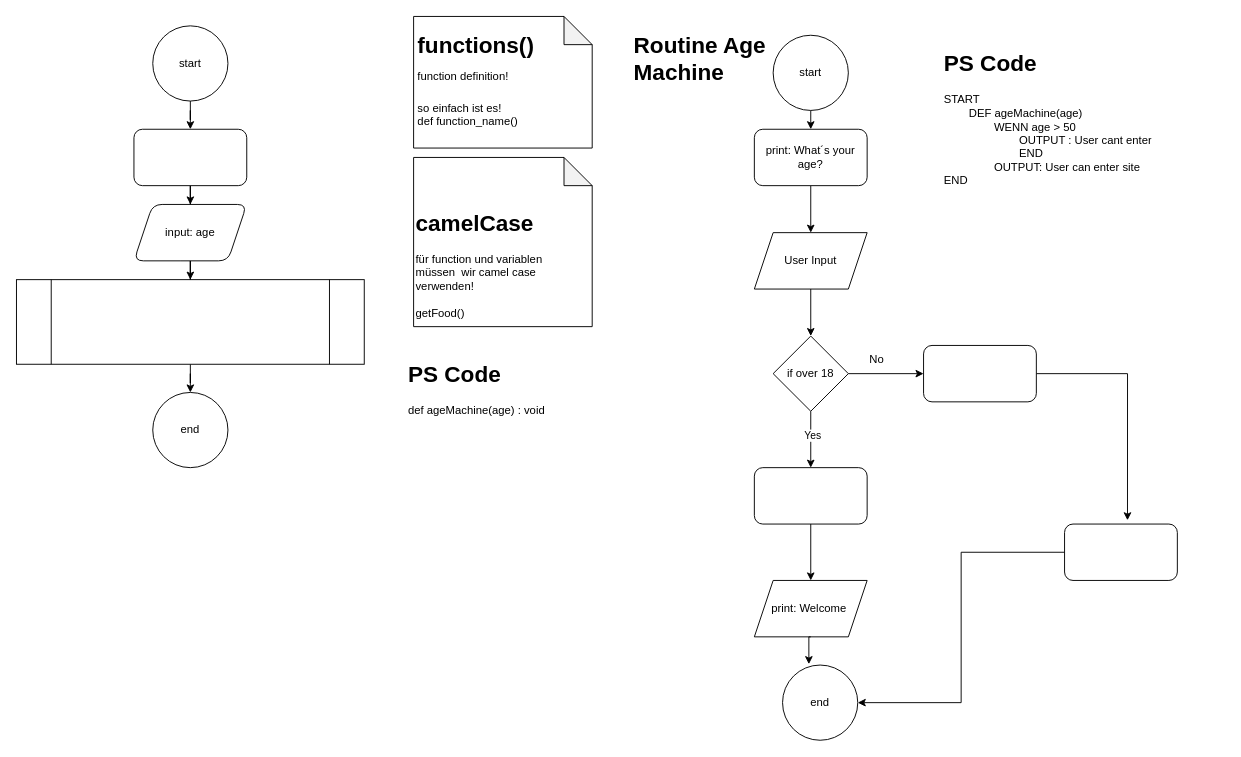
This 1241x757 diagram has some shape labels left out. Here are the shapes that lost their labels. From the top down, the centre of each, then its label:
At (x=190, y=157): "print: Wie Alt bist du?".
At (x=190, y=321): "ageMachine".
At (x=979, y=373): "User cant enter".
At (x=810, y=495): "User can enter site".
At (x=1120, y=551): "print: Dismissed not old enough".
